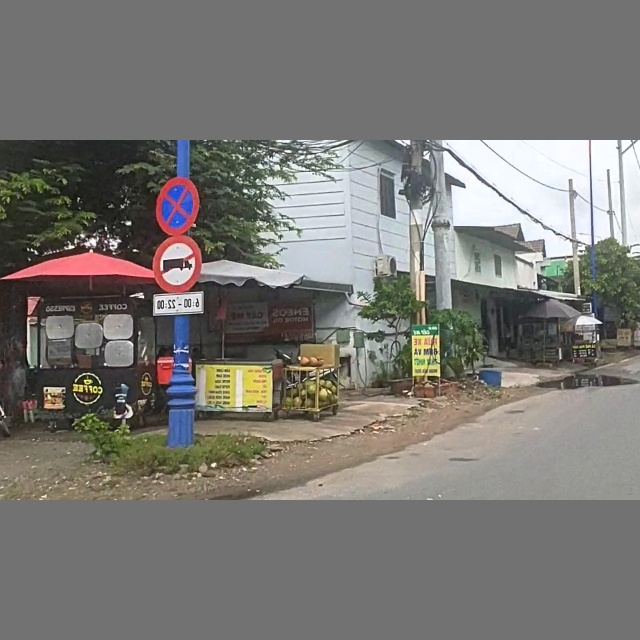B.8a: (152, 236, 201, 293)
P.130: (155, 177, 199, 235)
